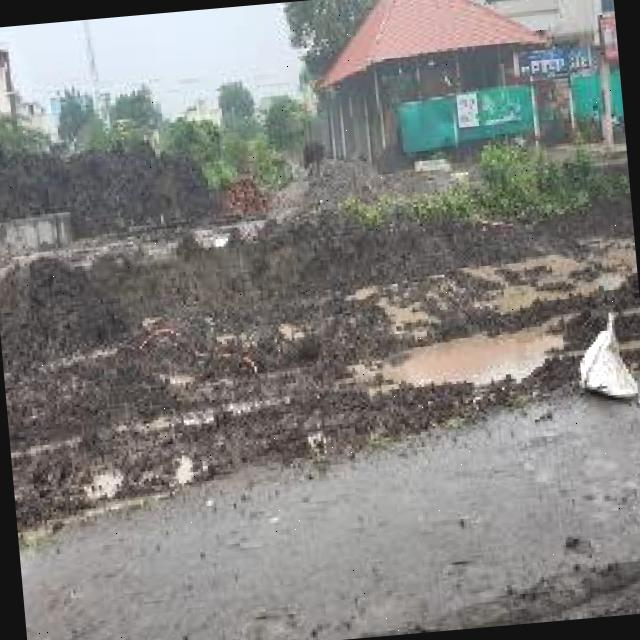stagnation: (317, 283, 591, 418)
